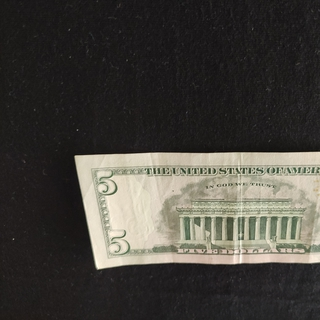5USDBack: (72, 149, 320, 269)
